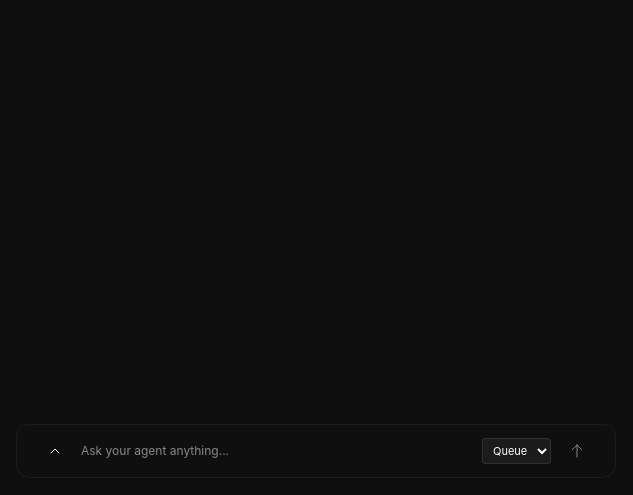
Test case: FloatingChat › renders context chips from persisted transcript messages
The image size is (633, 495).
Click the button named "Expand agent chat": (55, 451) [41,437,69,465]
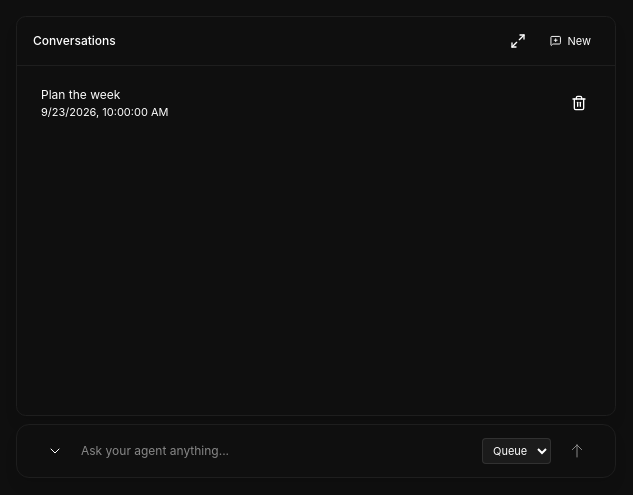
Click the button "Plan the week 9/23/2026, 10:00:00 AM": (81, 95) [29,78,563,128]
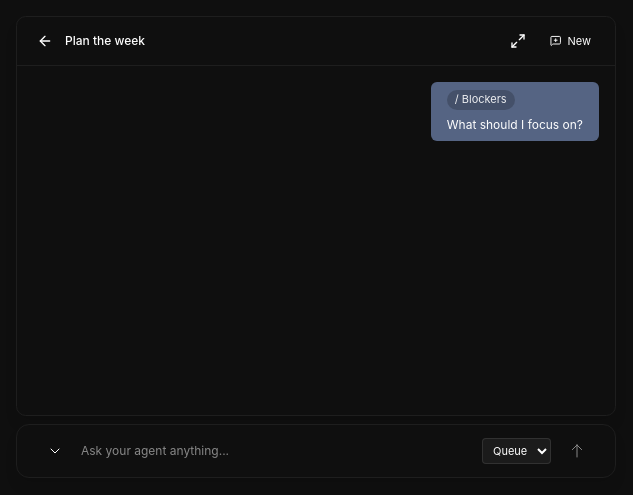
Result: the text "/ Blockers" is shown at [447,90,515,110]
Result: the text "What should I focus on?" is shown at [447,117,583,132]
